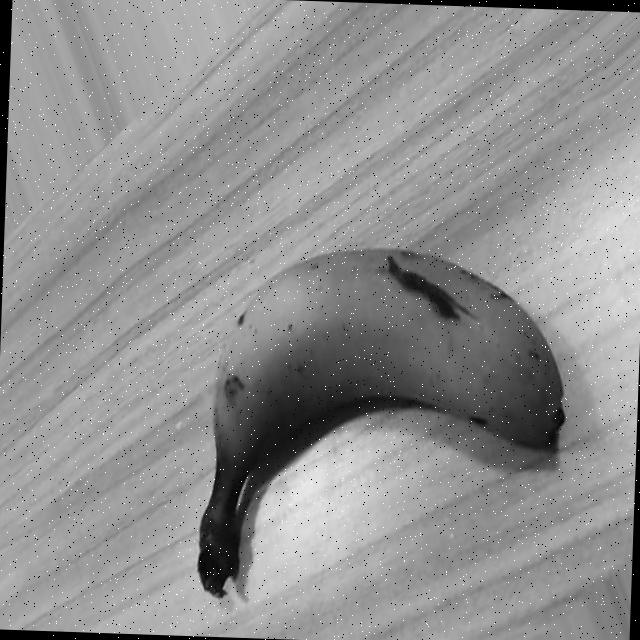Unripe: (192, 239, 568, 612)
